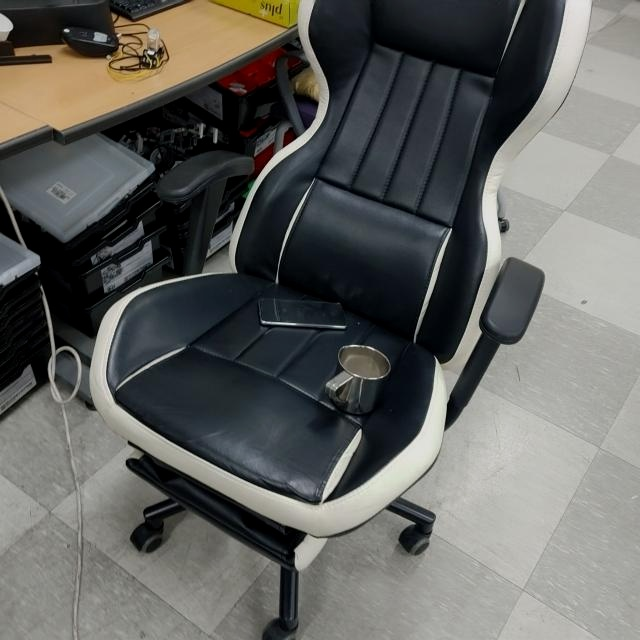cup: (323, 344, 394, 420)
phone: (255, 298, 349, 330)
